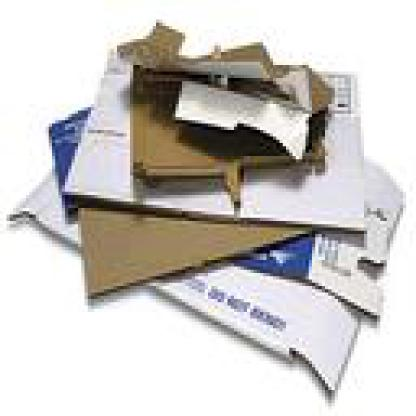CARDBOARD: (3, 104, 400, 400), (45, 94, 403, 322), (65, 46, 367, 234), (114, 20, 325, 218), (75, 201, 312, 299), (156, 56, 309, 162)
